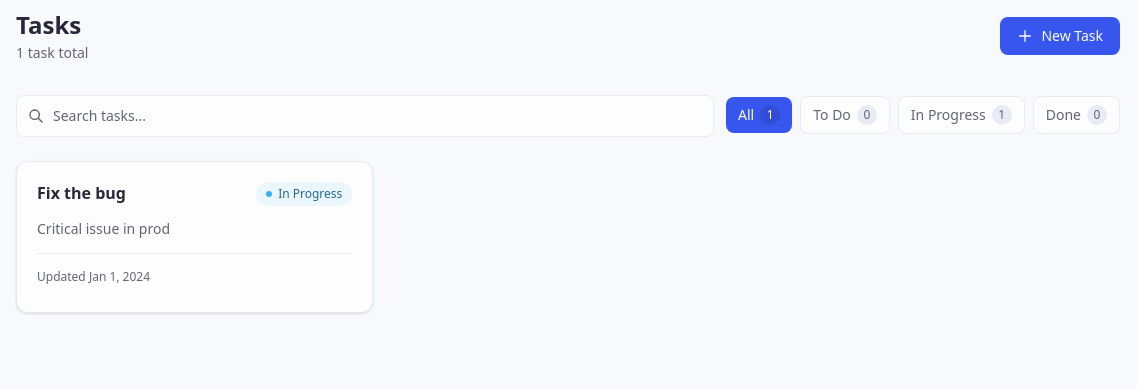
Dashboard › shows empty state when filter yields no results
This screenshot has width=1137, height=389.
Click the button "Done 0".
click(1076, 115)  # box x1=1033 y1=96 x2=1120 y2=134
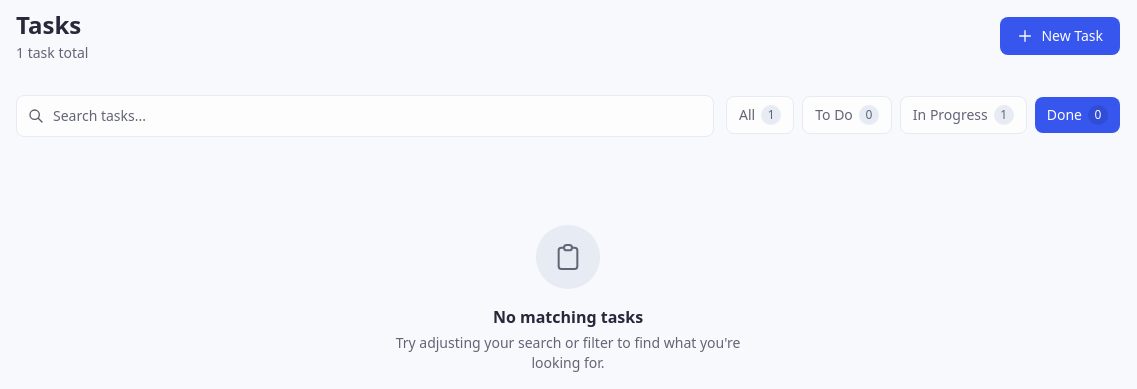
Expected: the heading "No matching tasks" is shown, x1=493 y1=305 x2=643 y2=329
